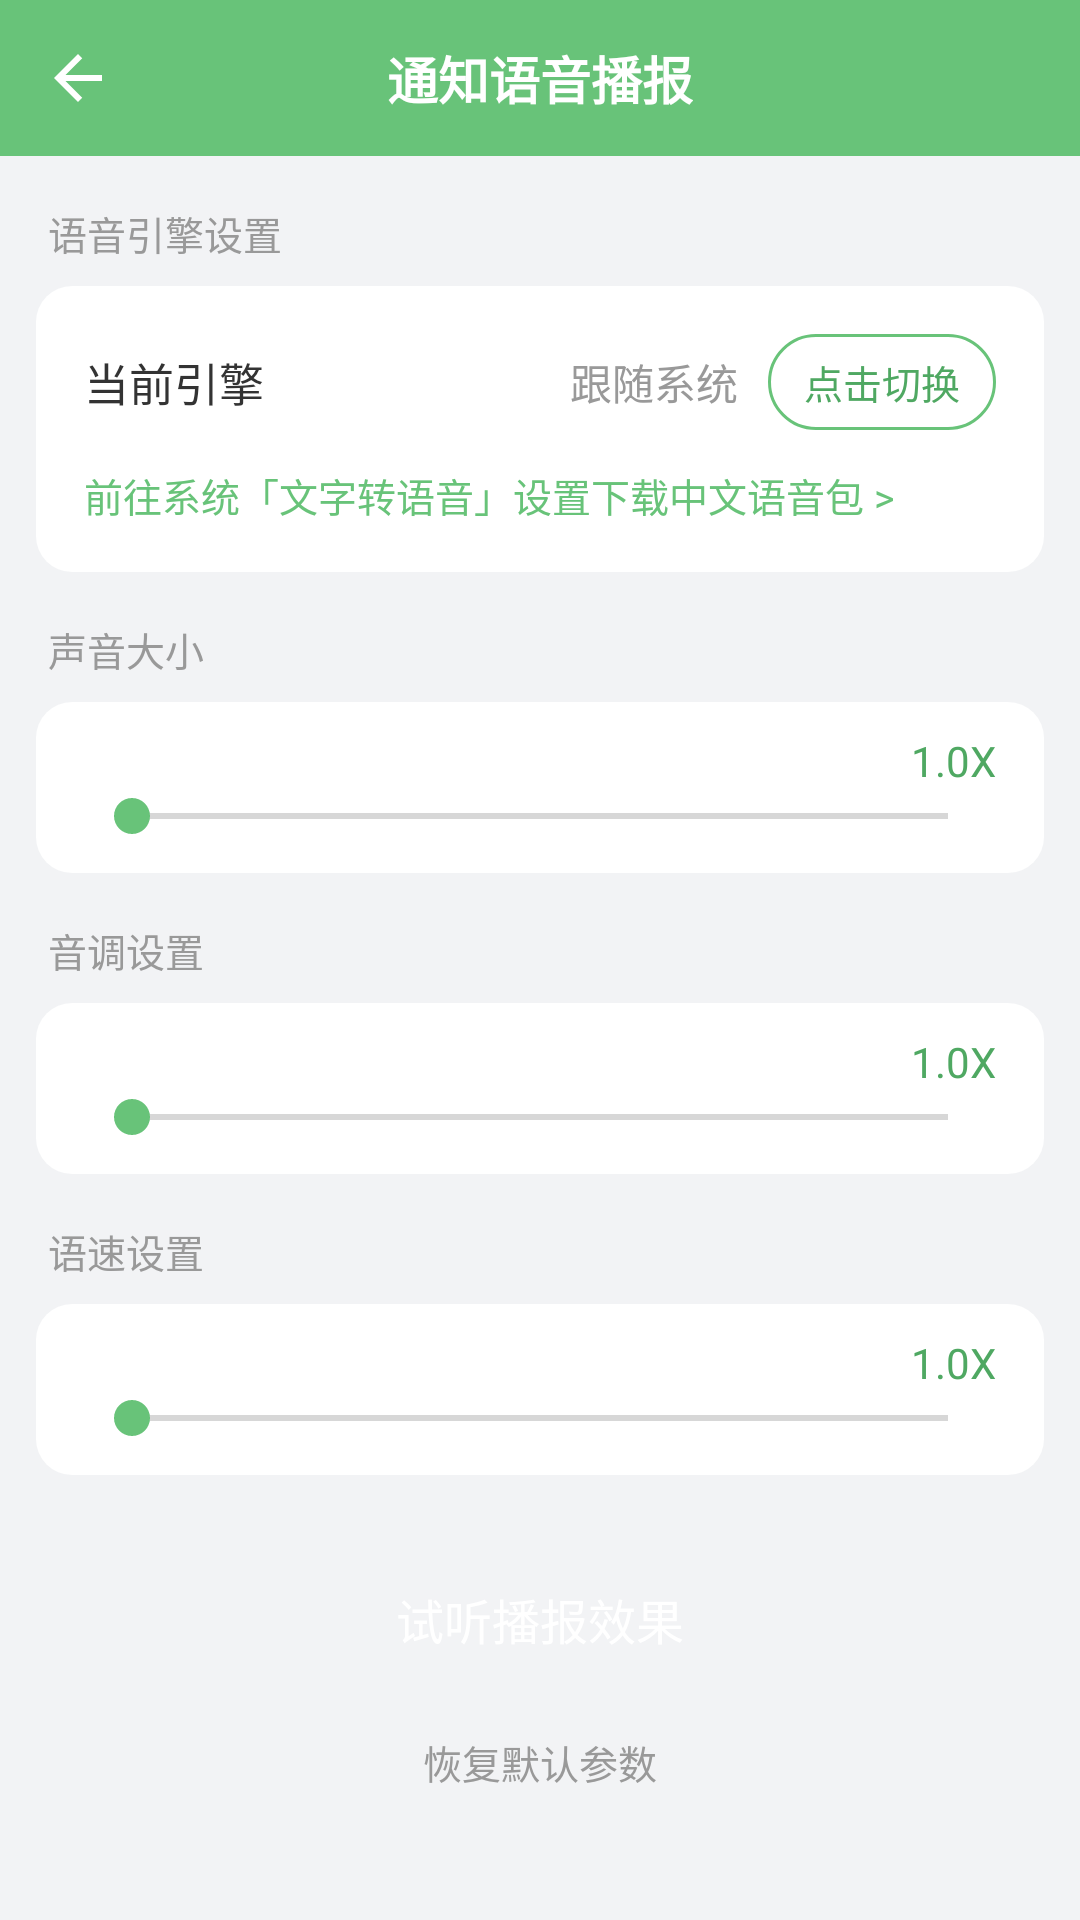

Where to tap for icons on this 1080 × 1920 app screen, as point (x, y):
back: point (78, 78)
